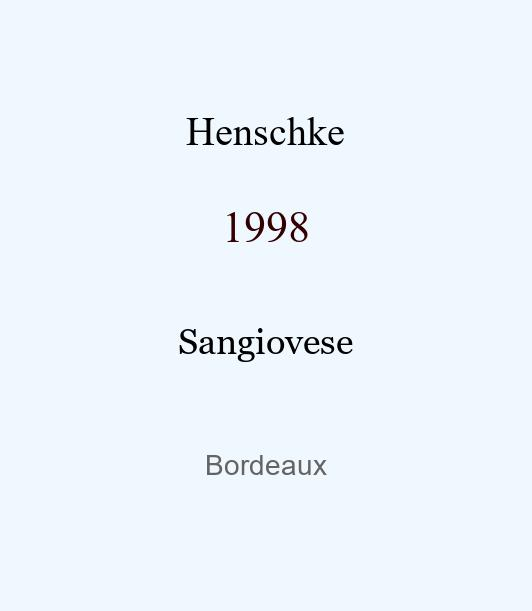brand: (186, 109, 345, 137)
region: (205, 449, 327, 469)
variety: (178, 320, 353, 354)
vintage: (222, 202, 310, 232)
